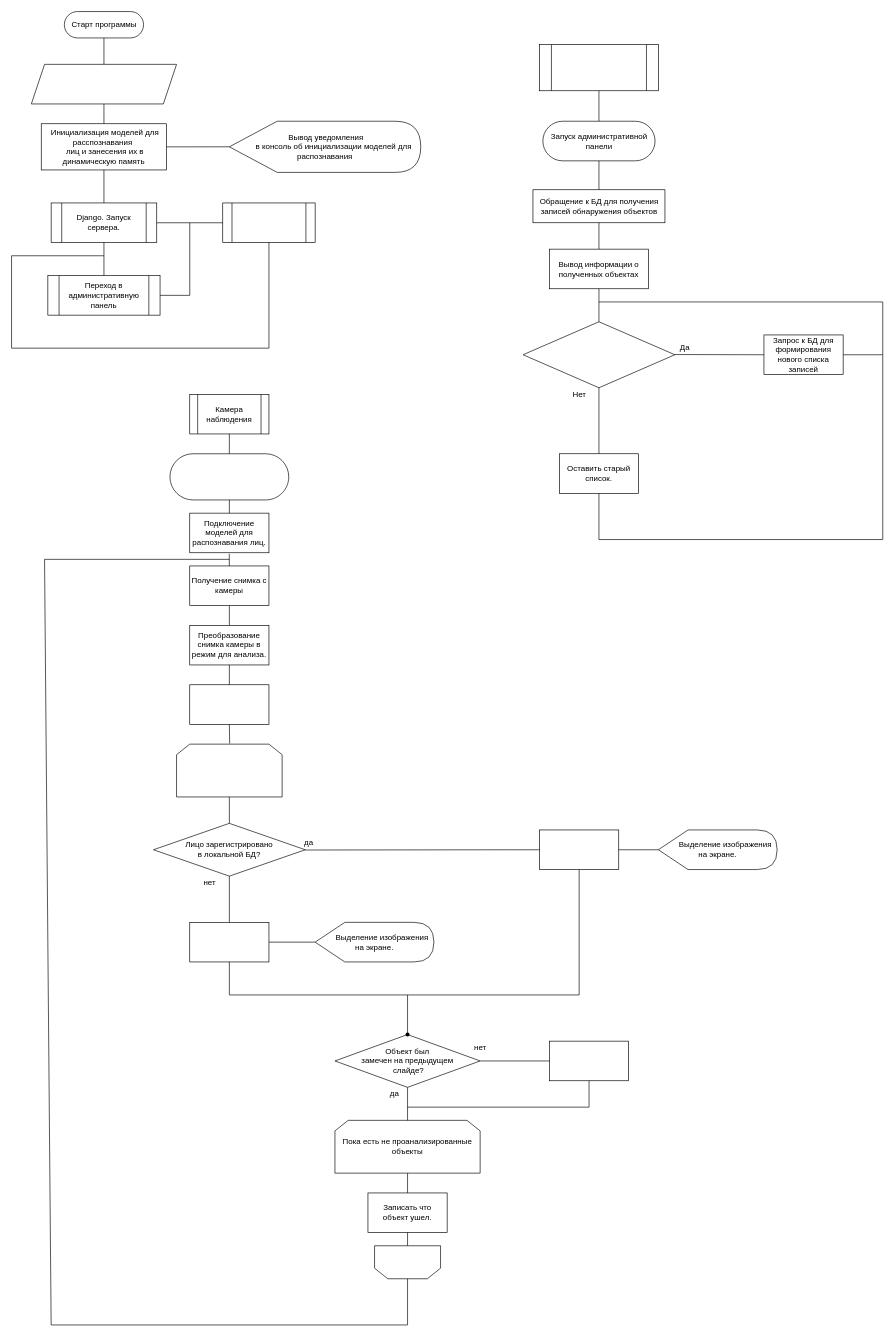
This 895x1337 diagram has some shape labels left out. Here are the shapes that lost their labels. From the top down, the centre of each, then its label:
(x=104, y=84): Загрузка изображений для модели расспознавания лиц
(x=598, y=67): Административная панель
(x=268, y=222): Переход в режим наблюдения камеры
(x=598, y=354): Поступил запрос на поиск определенных записей?
(x=229, y=476): Старт программы. Подключение к камере
(x=229, y=704): Нахождение всех лиц на изображении
(x=229, y=770): Пока есть не проанализированные лица.
(x=579, y=849): Запрос в БД об информации имени объекта.
(x=229, y=942): Присвоить модели имя 'Unknown'
(x=589, y=1060): Запомнить объект.
